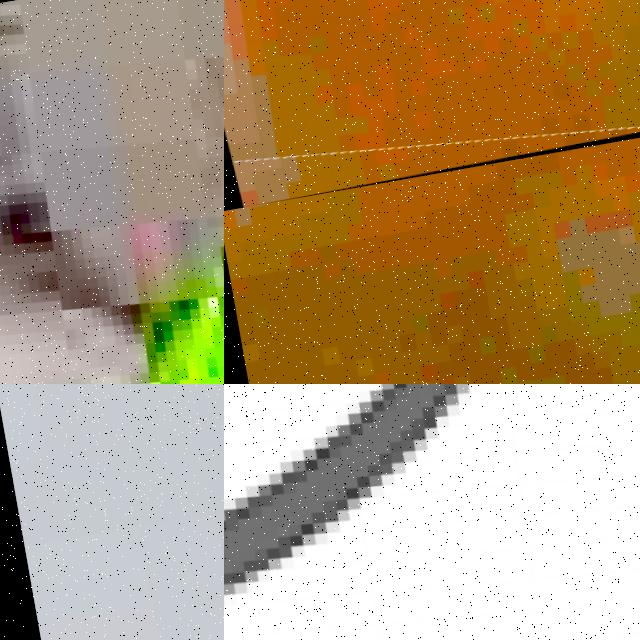drone: (224, 384, 640, 640), (224, 0, 640, 211), (0, 0, 224, 384)
